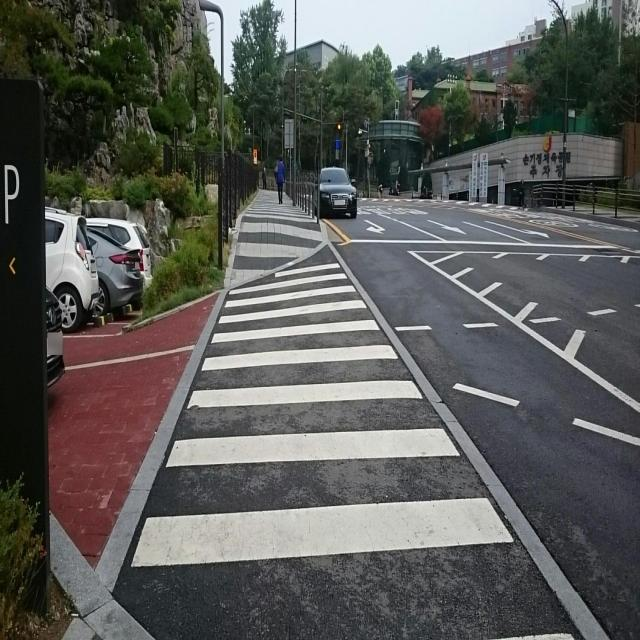횡단보도: (127, 258, 577, 640)
